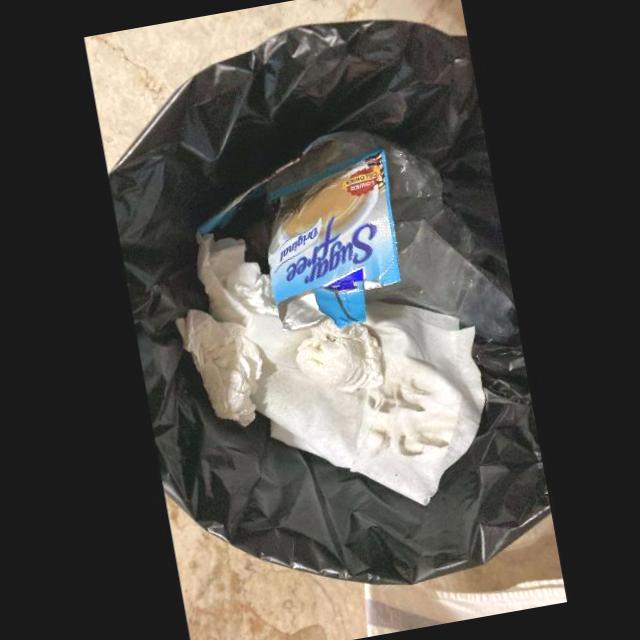giay: (196, 232, 485, 504), (174, 308, 263, 426), (294, 314, 386, 392)
goi_nhua_nho: (266, 147, 401, 329)
tui_ni_long: (262, 129, 519, 335)
